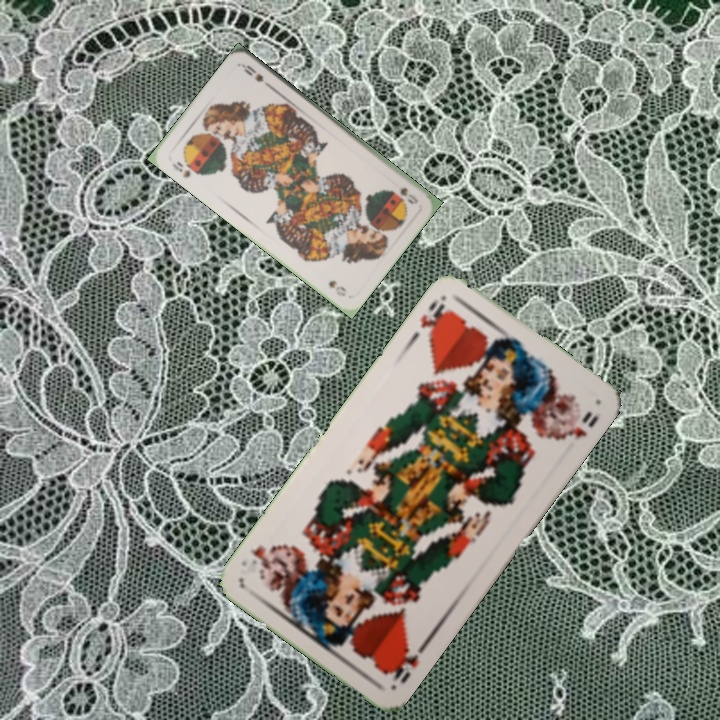HO: (382, 638, 430, 690), (416, 292, 453, 344)
SO: (395, 183, 421, 207), (168, 157, 193, 180)
